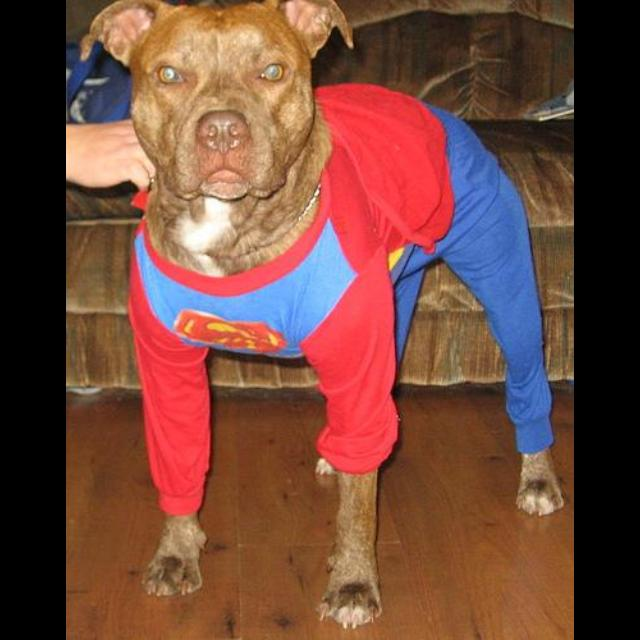amstaff: (79, 2, 566, 631)
